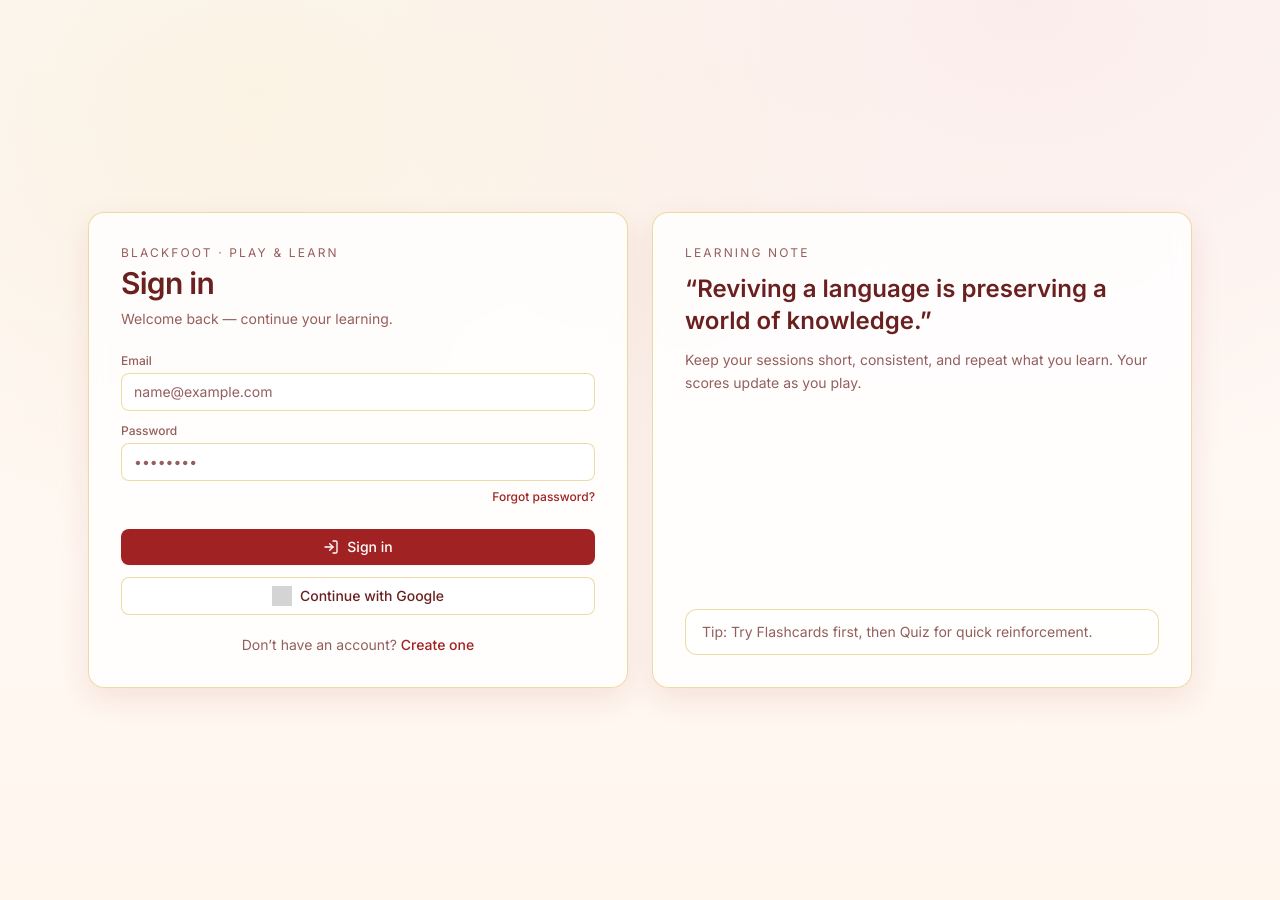
Test: Login page › toggles to sign up form
This screenshot has width=1280, height=900.
Click the button "Create one" at x=438, y=645, box x1=401 y1=635 x2=474 y2=655
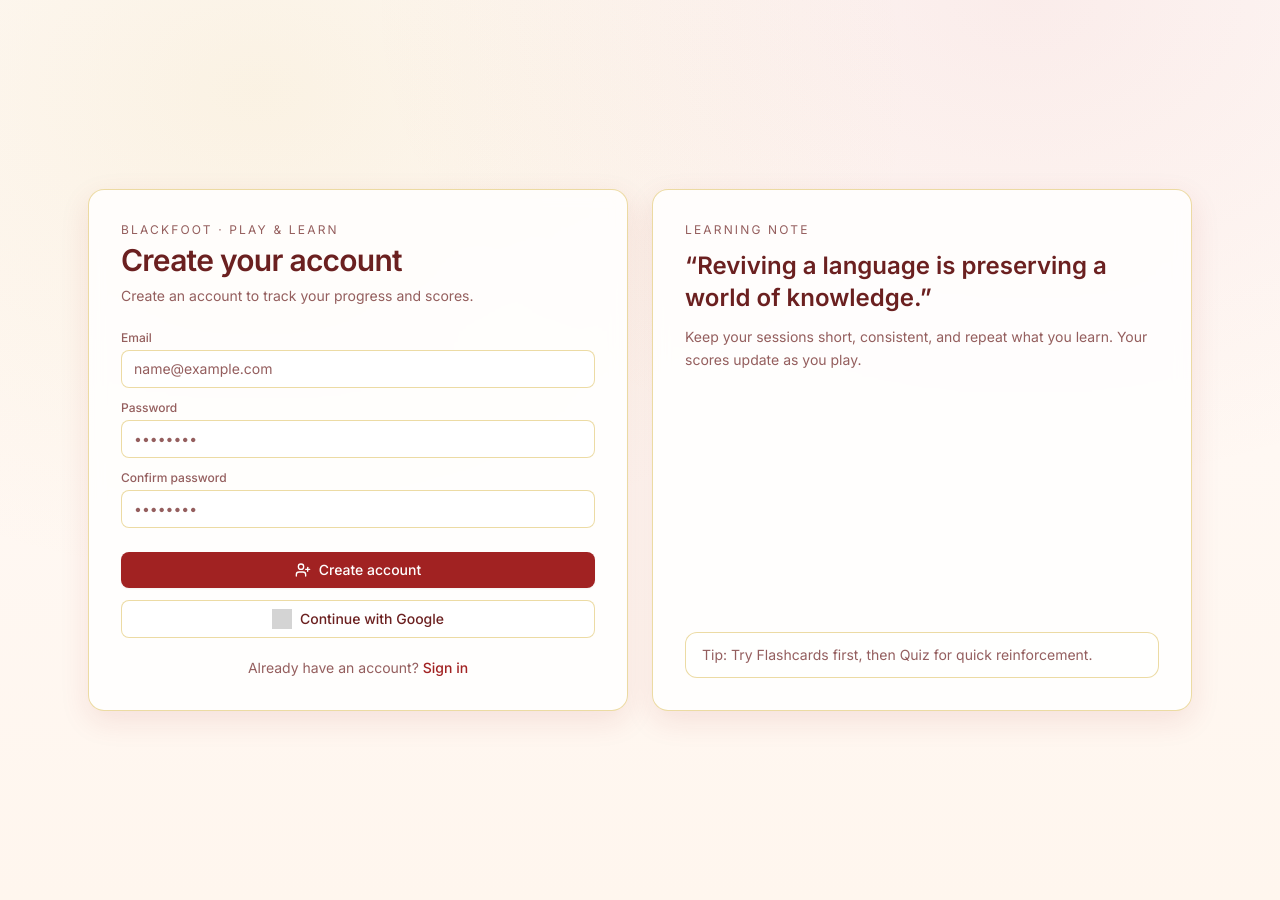
Expected: the heading "Create your account" is shown, x1=121 y1=242 x2=402 y2=278
